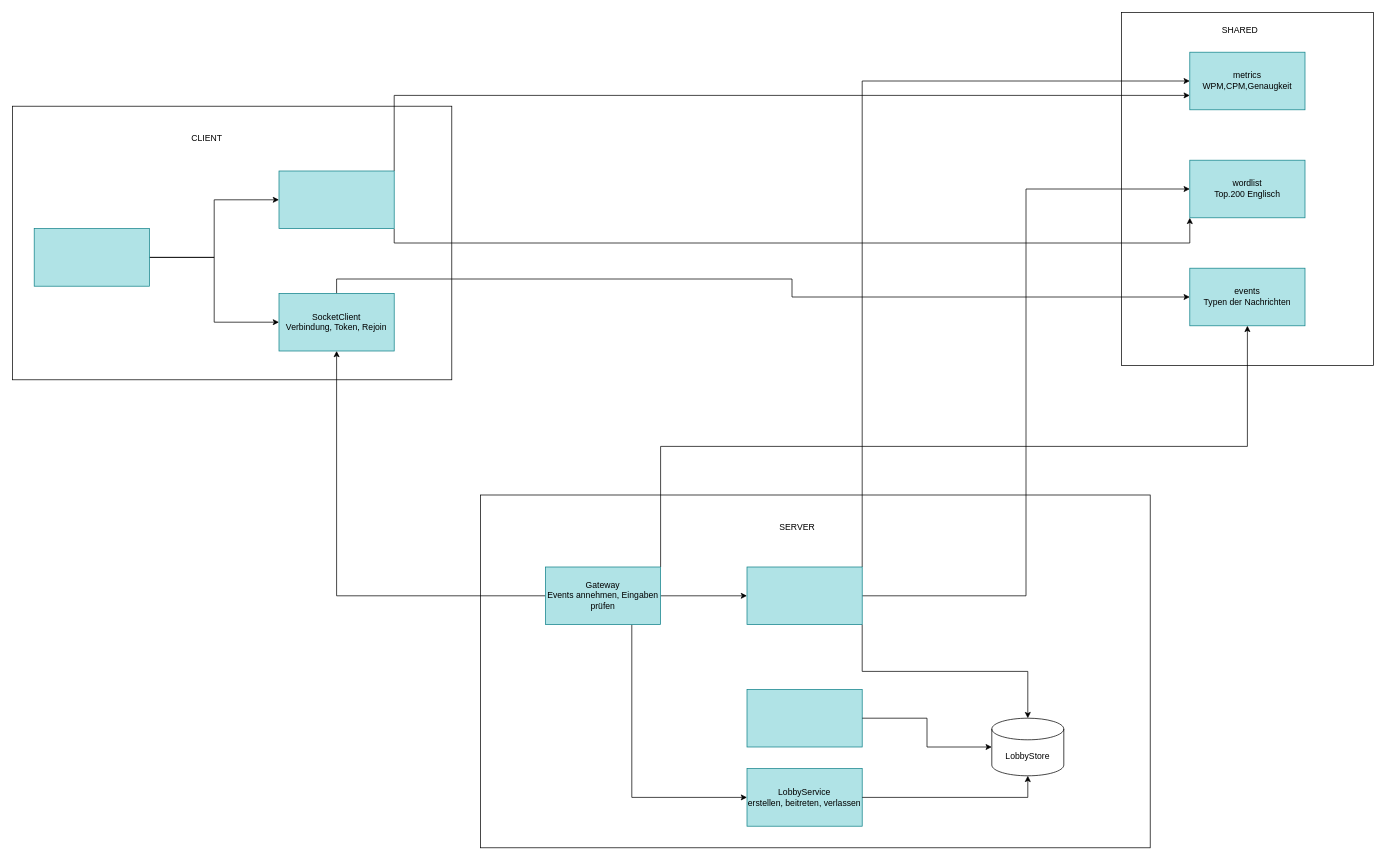
Some shapes in this 1386 by 860 pixel diagram are drawn without their labels. Here are the shapes that lost their labels. From the top down, the centre of each, then its label:
At [336,199]: "TypingEngine Eingabe auswerten, Zähler führen".
At [91,257]: "Seiten Solo, Lobby, Results".
At [804,595]: "RoundService Wörter, Start, Ergebnisse, Rangliste".
At [804,718]: "Cleanup Lobbys nach 30min löschen".
